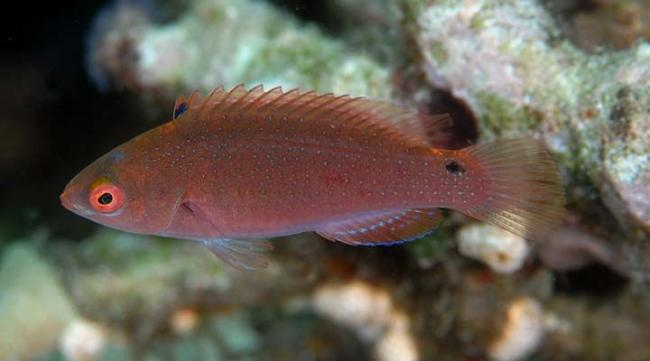fish: (60, 83, 566, 274)
